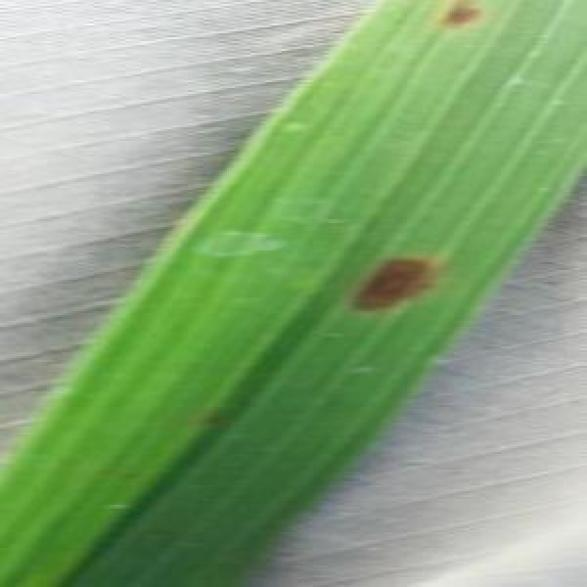Brown_Spot: (335, 244, 450, 321), (421, 0, 493, 37), (227, 389, 260, 411), (196, 405, 225, 429)
